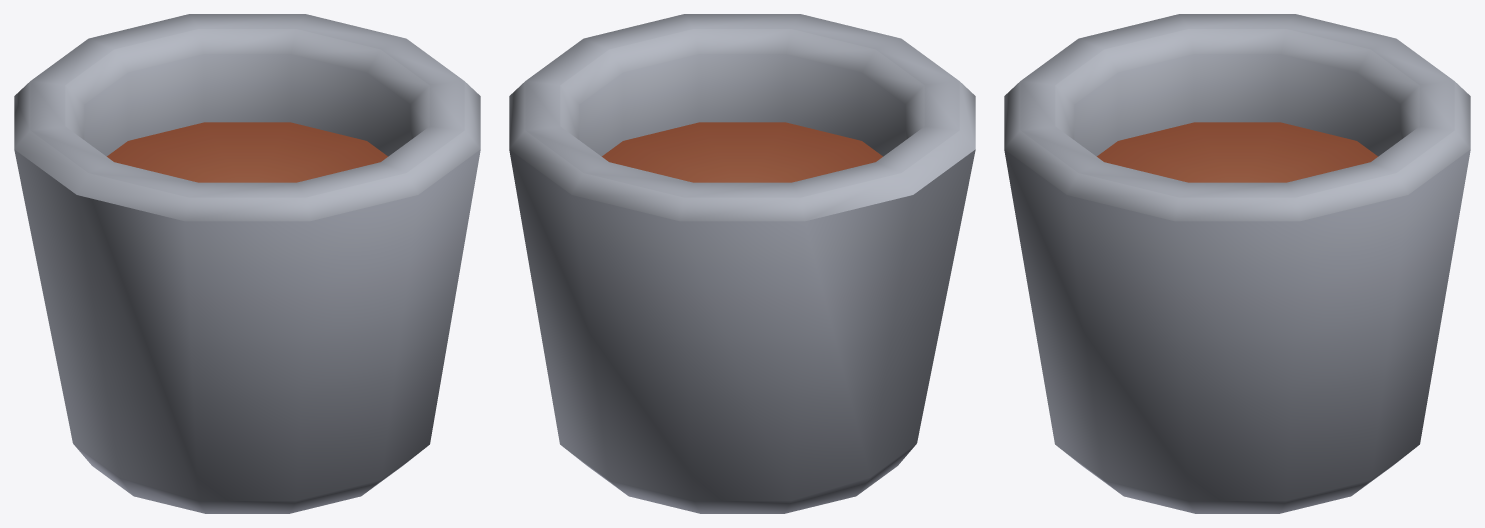
Rendered from pot_B_small.glb.
3 views of the same model, side by side, from view 1: azimuth 30°, elevation 25°; view 2: azimuth 150°, elevation 25°; view 3: azimuth 270°, elevation 25° (orthographic).
Visible parts, largest first — view 1: pot_B_small; view 2: pot_B_small; view 3: pot_B_small.
Boxes of the visible parts, bbox=[...] form: pot_B_small: bbox=[14, 14, 480, 513]; pot_B_small: bbox=[509, 14, 975, 513]; pot_B_small: bbox=[1004, 14, 1470, 513].
Size of the model in its own units: 0.494 by 0.4 by 0.494.
Materials: 1 (1 with a texture image).
